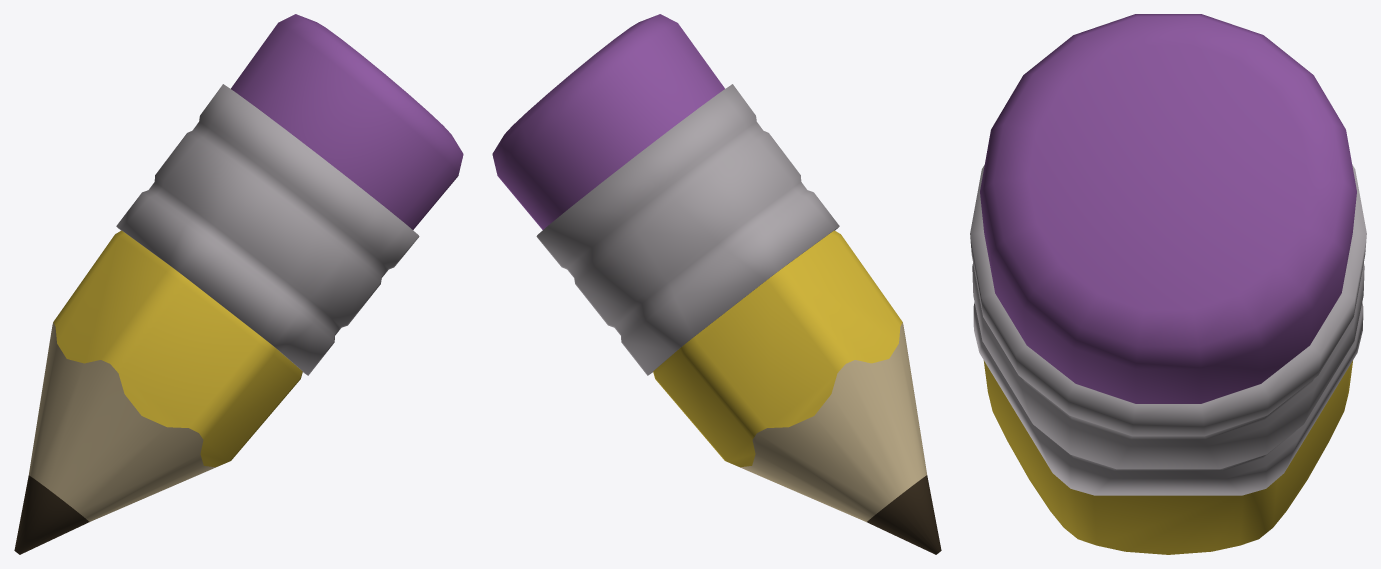
3 views of the same model, side by side, from view 1: azimuth 30°, elevation 25°; view 2: azimuth 150°, elevation 25°; view 3: azimuth 270°, elevation 25° (orthographic). The views are drawn at different scales.
Visible parts, largest first — view 1: Cylinder.001; view 2: Cylinder.001; view 3: Cylinder.001.
Boxes of the visible parts, x1,y1,x2,y2 form: Cylinder.001: (14, 14, 463, 554); Cylinder.001: (492, 14, 941, 554); Cylinder.001: (970, 14, 1366, 554).
Size of the model in its own units: 0.176 by 0.1787 by 0.0891.
1 material, 1 textured.
